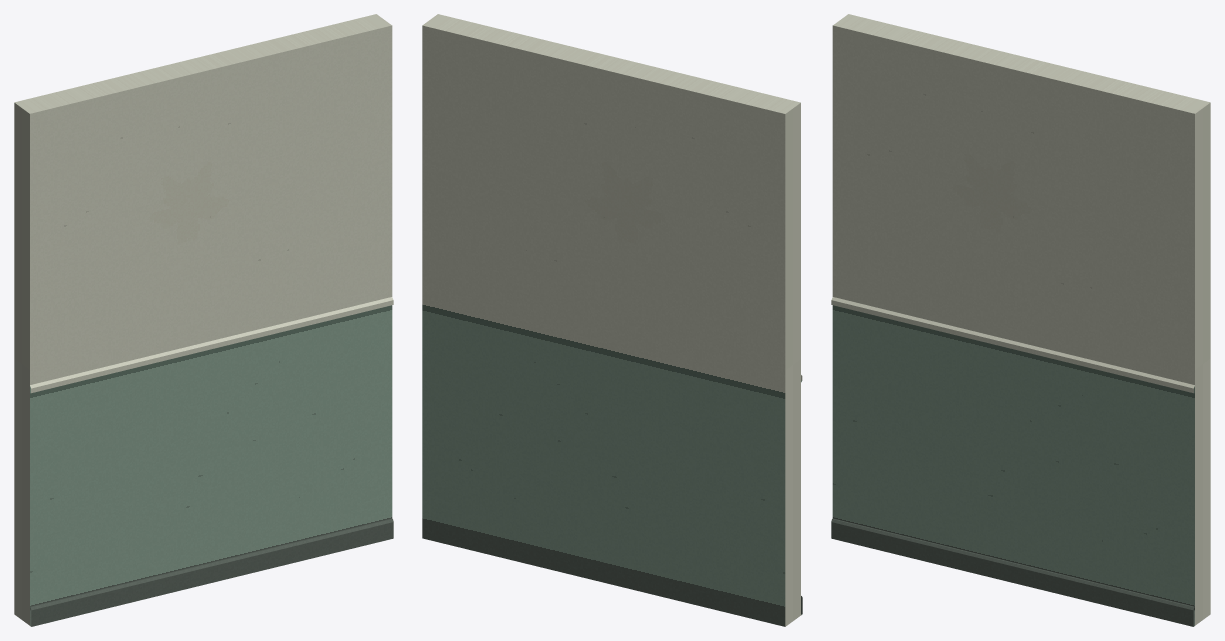
The model's file is wall_2a.glb.
The picture shows the model from 3 angles, left to right: view 1: azimuth 30°, elevation 25°; view 2: azimuth 150°, elevation 25°; view 3: azimuth 330°, elevation 25°; orthographic projection.
Parts seen in each view (by area): view 1: wall_body; view 2: wall_body; view 3: wall_body.
Boxes of the visible parts, left/top/right/bottom form: wall_body: left=14, top=14, right=393, bottom=626; wall_body: left=422, top=14, right=802, bottom=626; wall_body: left=831, top=14, right=1210, bottom=626.
Size of the model in its own units: 2 by 2.7 by 0.1656.
1 material, 1 textured.
